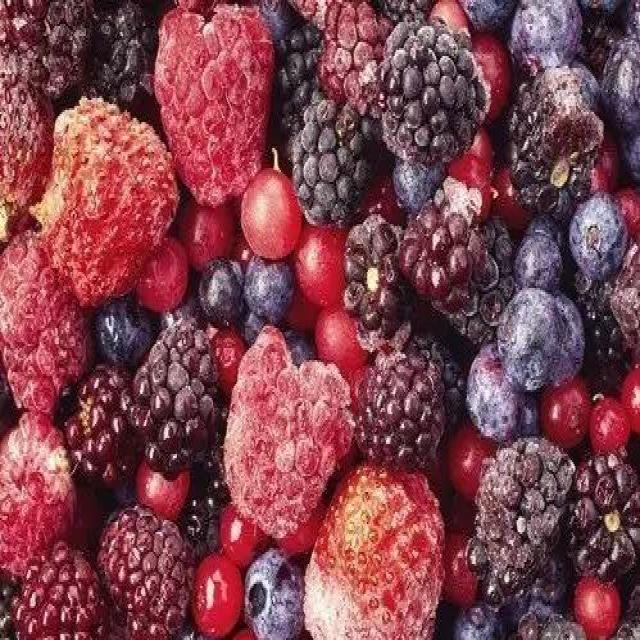Wet Waste: (0, 2, 639, 638)
